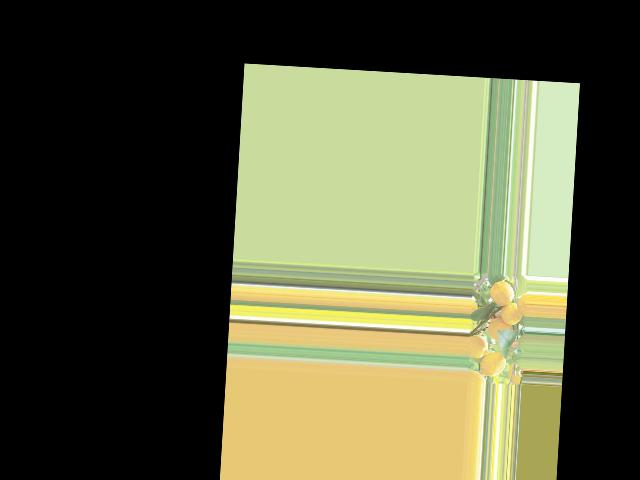lemon: (491, 278, 517, 308)
